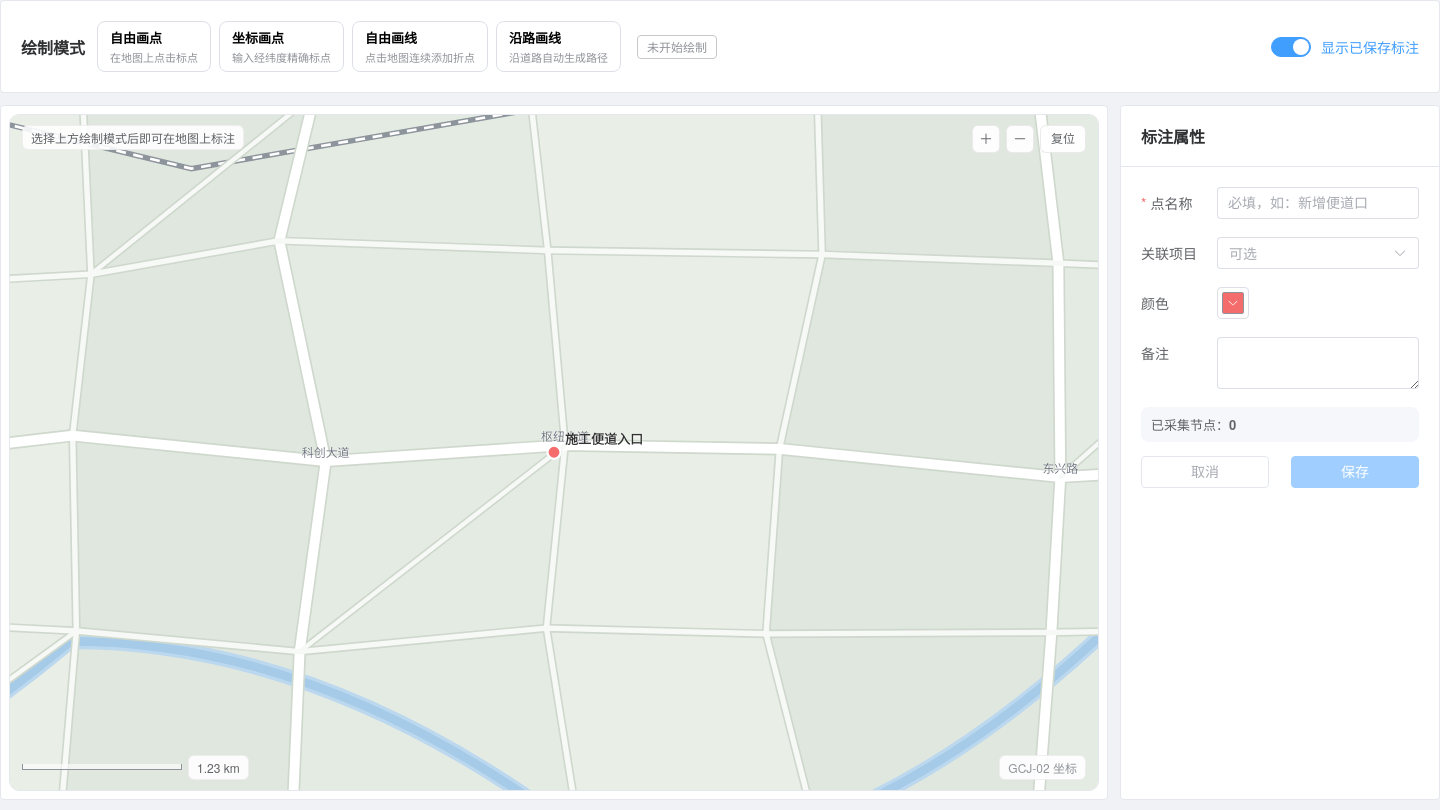
MapDrawView › 取消后退出绘制模式并清空草稿
Click the button "沿路画线 沿道路自动生成路径".
click(558, 46)  # box left=496, top=21, right=621, bottom=72
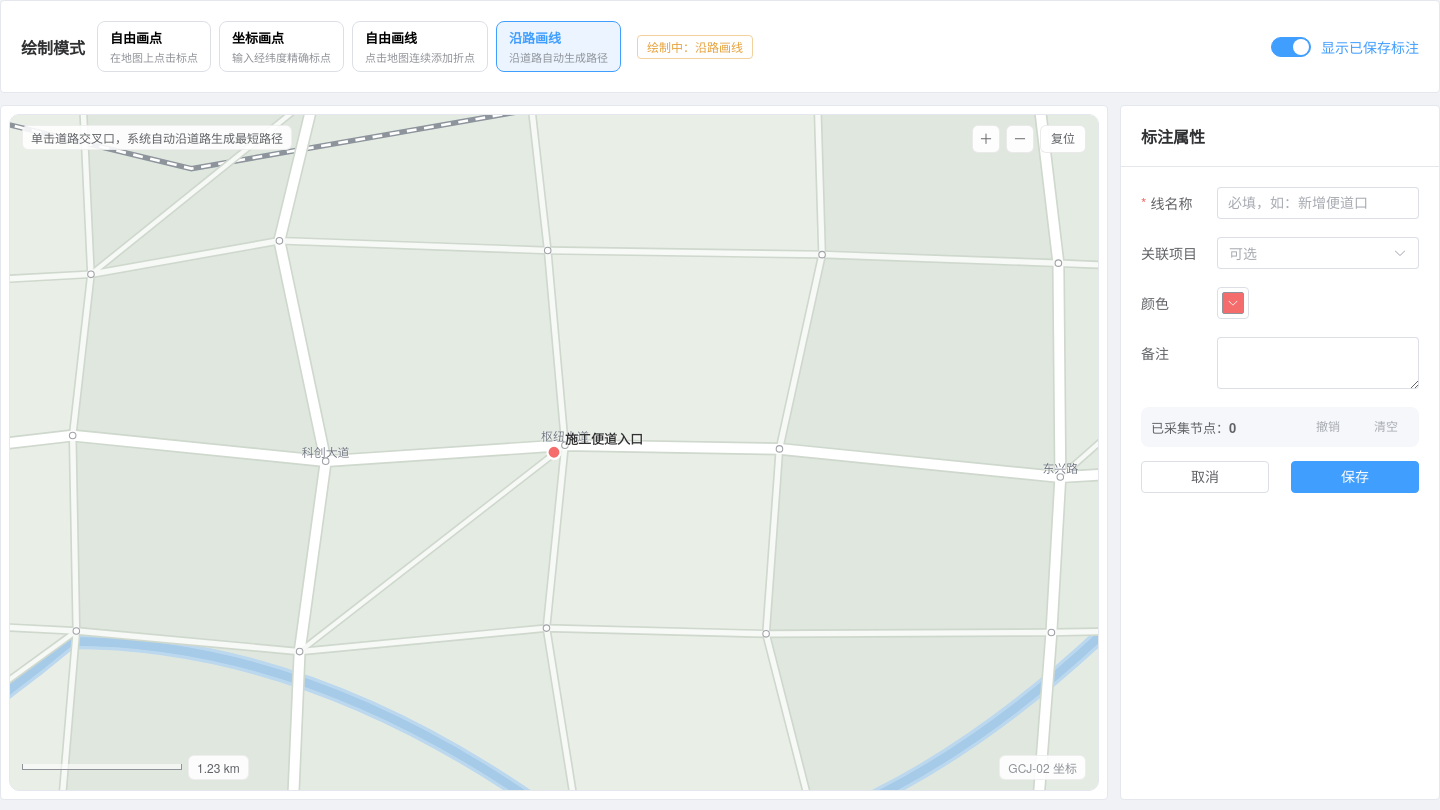
Expected: the text "绘制中：沿路画线" is shown, left=647, top=41, right=743, bottom=53
Click the button "取消".
click(1205, 477)  # box left=1141, top=461, right=1269, bottom=493
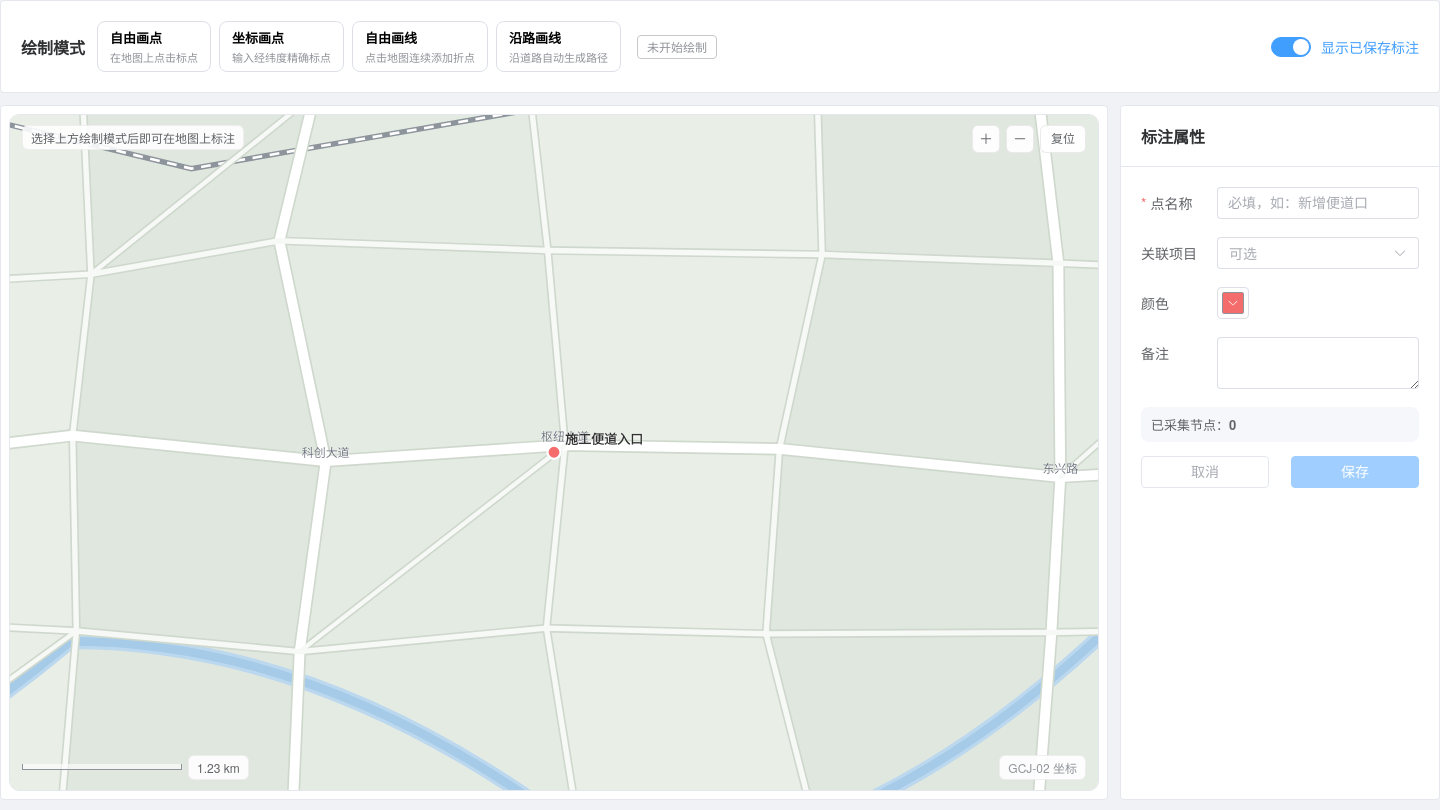
Expected: the text "已采集节点：0" is shown, left=1151, top=415, right=1236, bottom=434
Expected: the text "未开始绘制" is shown, left=647, top=41, right=707, bottom=53
